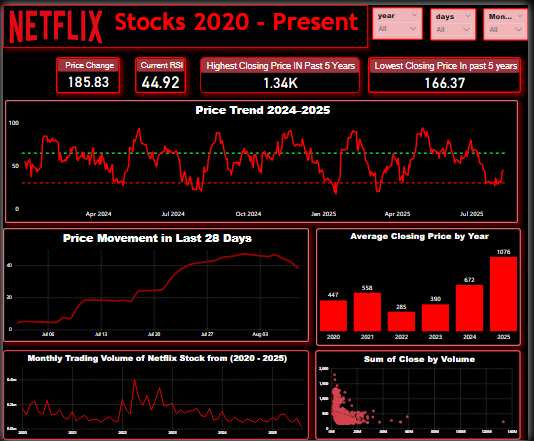

This screenshot's page, from the dashboard's own definition file:
{"tool":"powerbi","page":{"name":"Stocks Analysis","canvas":[1750,1450],"ordinal":0},"visuals":[{"type":"lineChart","title":"Monthly Trading Volume of Netflix Stock from (2020 - 2025)","fields":{"Category":["preprocessed_data (1).Date.Variation.Date Hierarchy.Year","preprocessed_data (1).Date.Variation.Date Hierarchy.Quarter","preprocessed_data (1).Date.Variation.Date Hierarchy.Month"],"Y":["Sum(preprocessed_data (1).Volume)"]},"box":[0,1150,1020,300],"z":0},{"type":"scatterChart","fields":{"X":["Sum(preprocessed_data (1).Volume)"],"Y":["Sum(Prices.Close)"]},"box":[1040.9,1150,686.4,300],"z":1000},{"type":"slicer","fields":{"Values":["Prices.Months"]},"box":[1600,9.1,151.5,109.1],"z":2000},{"type":"card","title":"Current RSI","fields":{"Values":["preprocessed_data (1).Current RSI"]},"box":[439.4,172.7,169.7,121.2],"z":3000},{"type":"card","title":"Highest Closing Price IN Past 5 Years","fields":{"Values":["Max(preprocessed_data (1).Close)"]},"box":[656.7,173.3,533.3,120],"z":4000},{"type":"card","title":"Lowest Closing Price In past 5 years","fields":{"Values":["Min(preprocessed_data (1).Close)"]},"box":[1216.7,173.3,510,120],"z":5000},{"type":"card","title":"Price Change","fields":{"Values":["preprocessed_data (1).Price Change %"]},"box":[176,172,214,122],"z":6000},{"type":"textbox","box":[0,0,1216.7,143.3],"z":7000},{"type":"slicer","fields":{"Values":["Prices.year"]},"box":[1230.3,7.6,170,110],"z":8000},{"type":"slicer","fields":{"Values":["Prices.days"]},"box":[1424.2,9.1,154.5,109.1],"z":9000},{"type":"columnChart","title":"Average Closing Price by Year","fields":{"Category":["Prices.year"],"Y":["Avg(Prices.Close)"]},"box":[1042.5,742.5,682.5,392.5],"z":10000},{"type":"lineChart","title":"Price Movement in Last 28 Days","fields":{"Category":["Prices.Date"],"Y":["Prices.Volatility_20d"]},"box":[0,743.3,1020,380],"z":11000},{"type":"lineChart","title":"Price Trend 2024–2025","fields":{"Y":["Sum(preprocessed_data (1).RSI)"],"Category":["preprocessed_data (1).Date"]},"box":[6.7,316.7,1710,410],"z":12000},{"type":"image","box":[6.7,0,340,143.3],"z":13000}]}

Visuals, with their boxes in screenshot pixels (x1, y1, x2, y2), scaled from the page's 1750x1450 canvas onto the 534x441 screenshot:
"Monthly Trading Volume of Netflix Stock from (2020 - 2025)" lineChart: [0, 350, 311, 440]
scatterChart - Sum(preprocessed_data (1).Volume) x Sum(Prices.Close): [318, 350, 527, 440]
slicer - Prices.Months: [488, 3, 533, 36]
"Current RSI" card: [134, 53, 186, 89]
"Highest Closing Price IN Past 5 Years" card: [200, 53, 363, 89]
"Lowest Closing Price In past 5 years" card: [371, 53, 527, 89]
"Price Change" card: [54, 52, 119, 89]
textbox: [0, 0, 371, 44]
slicer - Prices.year: [375, 2, 427, 36]
slicer - Prices.days: [435, 3, 482, 36]
"Average Closing Price by Year" columnChart: [318, 226, 526, 345]
"Price Movement in Last 28 Days" lineChart: [0, 226, 311, 342]
"Price Trend 2024–2025" lineChart: [2, 96, 524, 221]
image: [2, 0, 106, 44]
